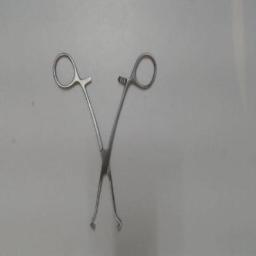Babcock Tissue Forceps: (50, 50, 160, 234)
